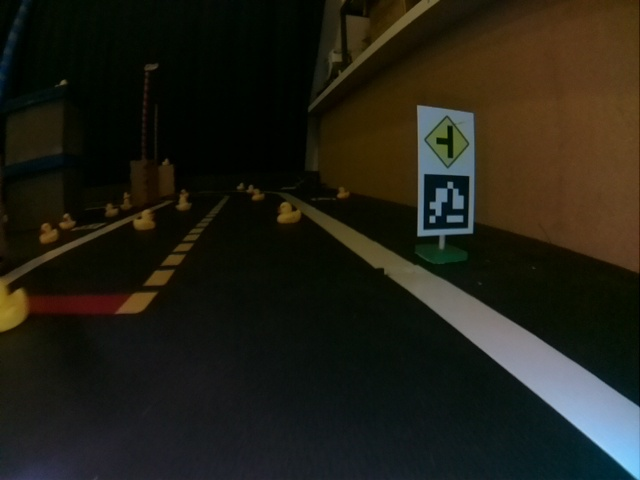Duckie: (4, 281, 27, 330), (278, 202, 299, 223), (133, 209, 155, 229), (39, 224, 56, 241), (63, 213, 75, 230), (104, 203, 116, 217), (177, 199, 192, 209), (256, 188, 265, 201), (340, 186, 349, 195)
Intersection sign: (425, 115, 470, 169)
QR code: (424, 172, 470, 229)
